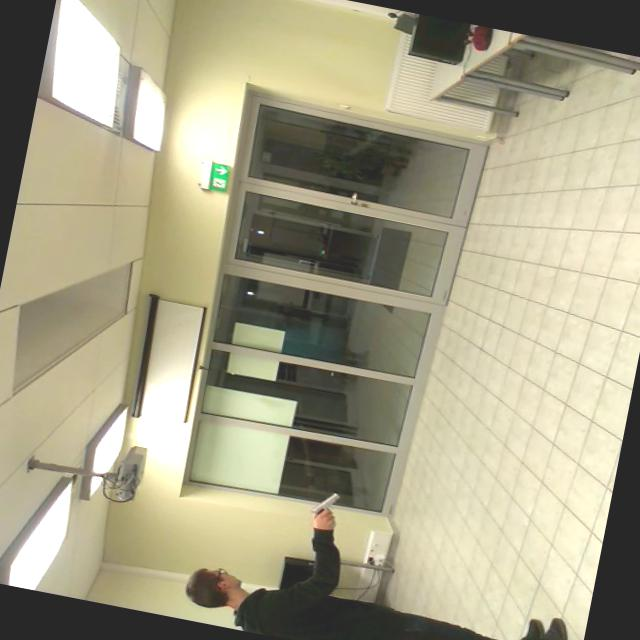handgun: (306, 482, 349, 532)
